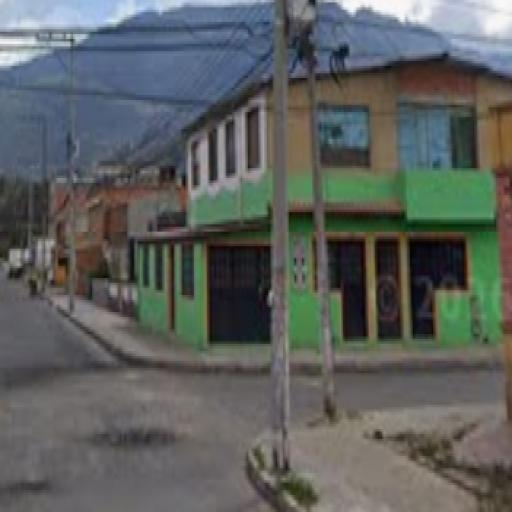poste: (303, 36, 335, 420), (266, 4, 291, 480), (66, 36, 78, 315)
